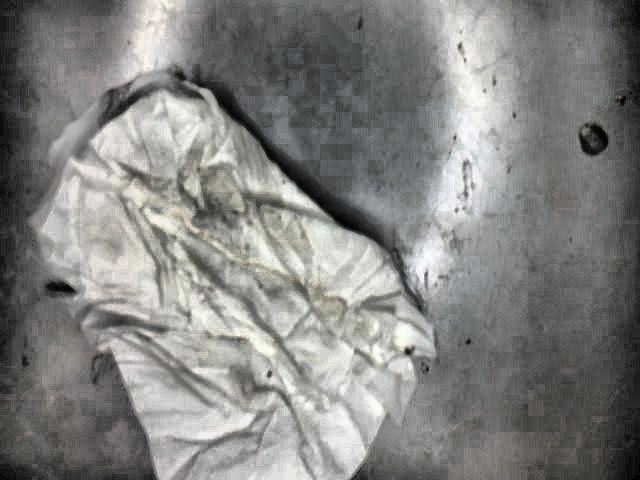Paper: (29, 61, 437, 480)
